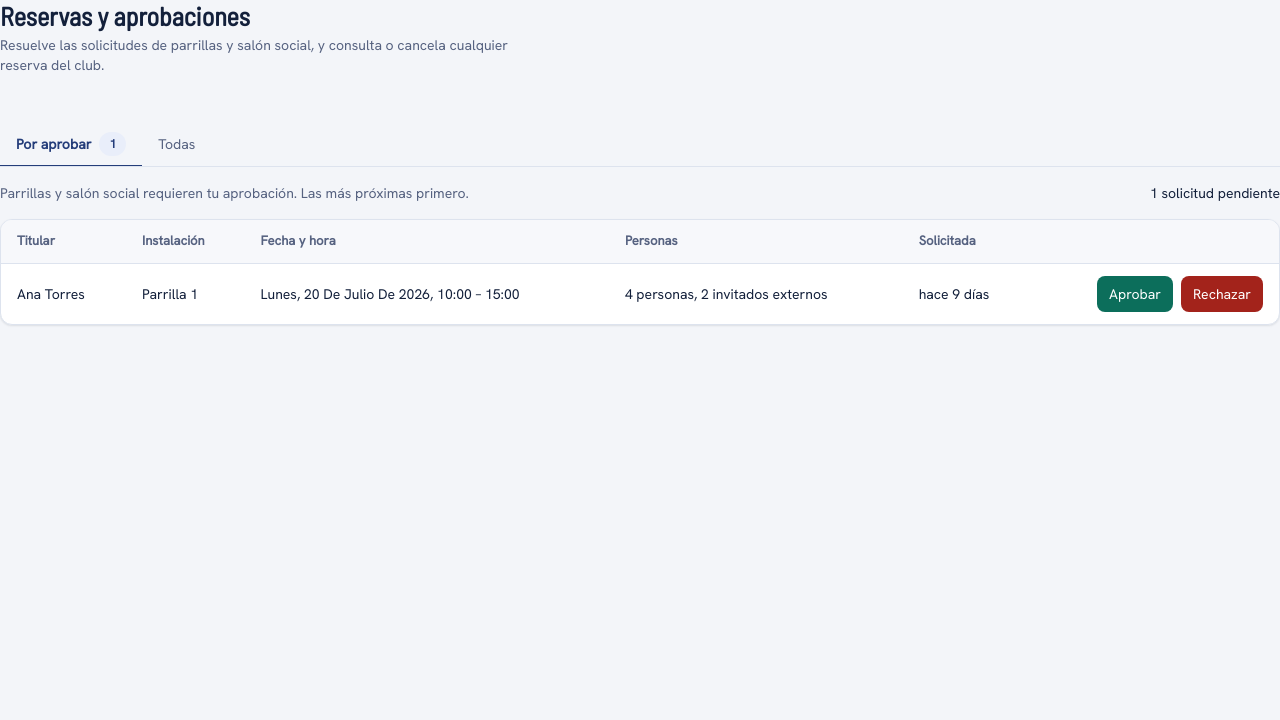
Test: ReservationsAdminPage › por aprobar › muestra el detalle con los participantes en el panel lateral
The width and height of the screenshot is (1280, 720).
Expected: the table is shown, [1, 220, 1279, 324]
Click the row named "Ver detalle de la reserva de Ana Torres, Parrilla 1".
click(640, 294)  # box [1, 264, 1279, 324]
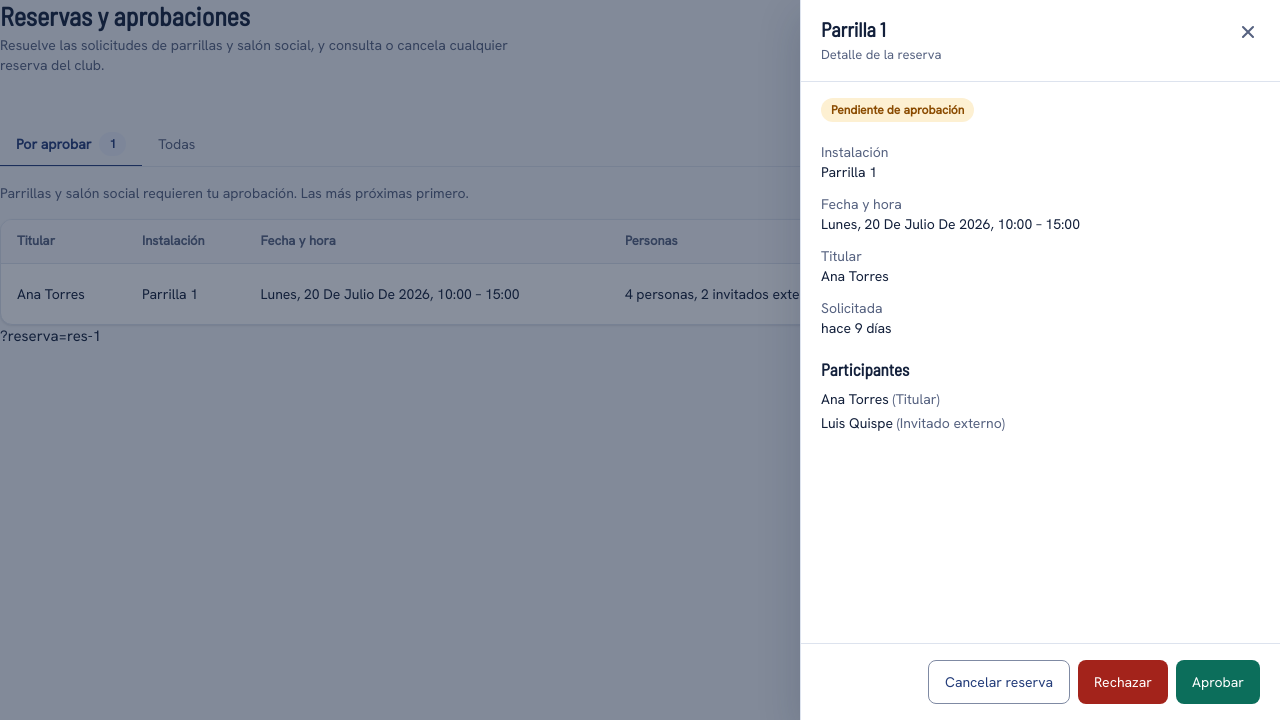
Result: the list item "Luis Quispe" is shown at [821, 414, 893, 432]
Result: the text "(Invitado externo)" is shown at [897, 414, 1005, 432]
Result: the text "(Titular)" is shown at [892, 390, 940, 408]
